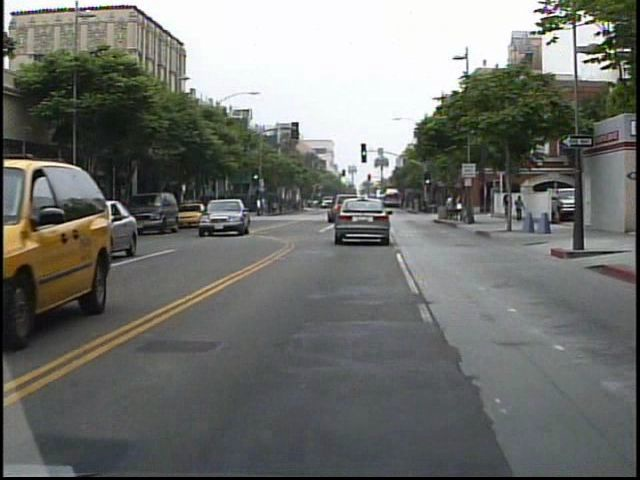person: (501, 187, 516, 227), (440, 190, 458, 222), (512, 191, 524, 225), (256, 194, 265, 219)
